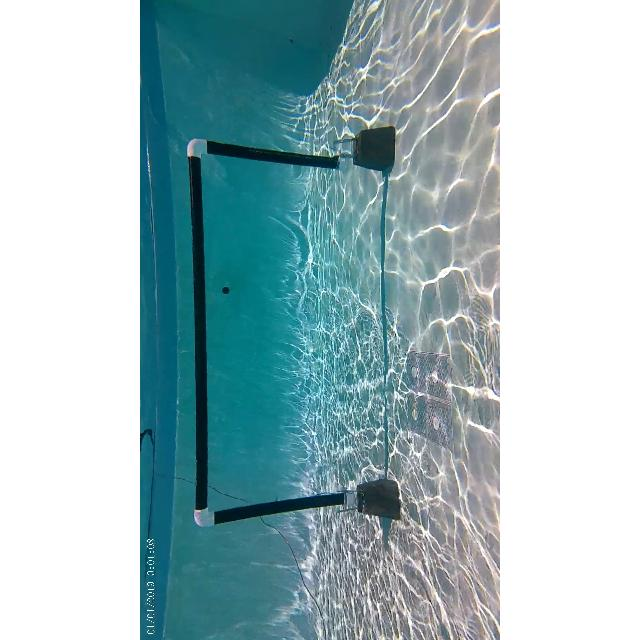prequal gate: (187, 137, 357, 528)
prequal gate leg l: (186, 494, 368, 524)
prequal gate leg r: (185, 135, 347, 173)
